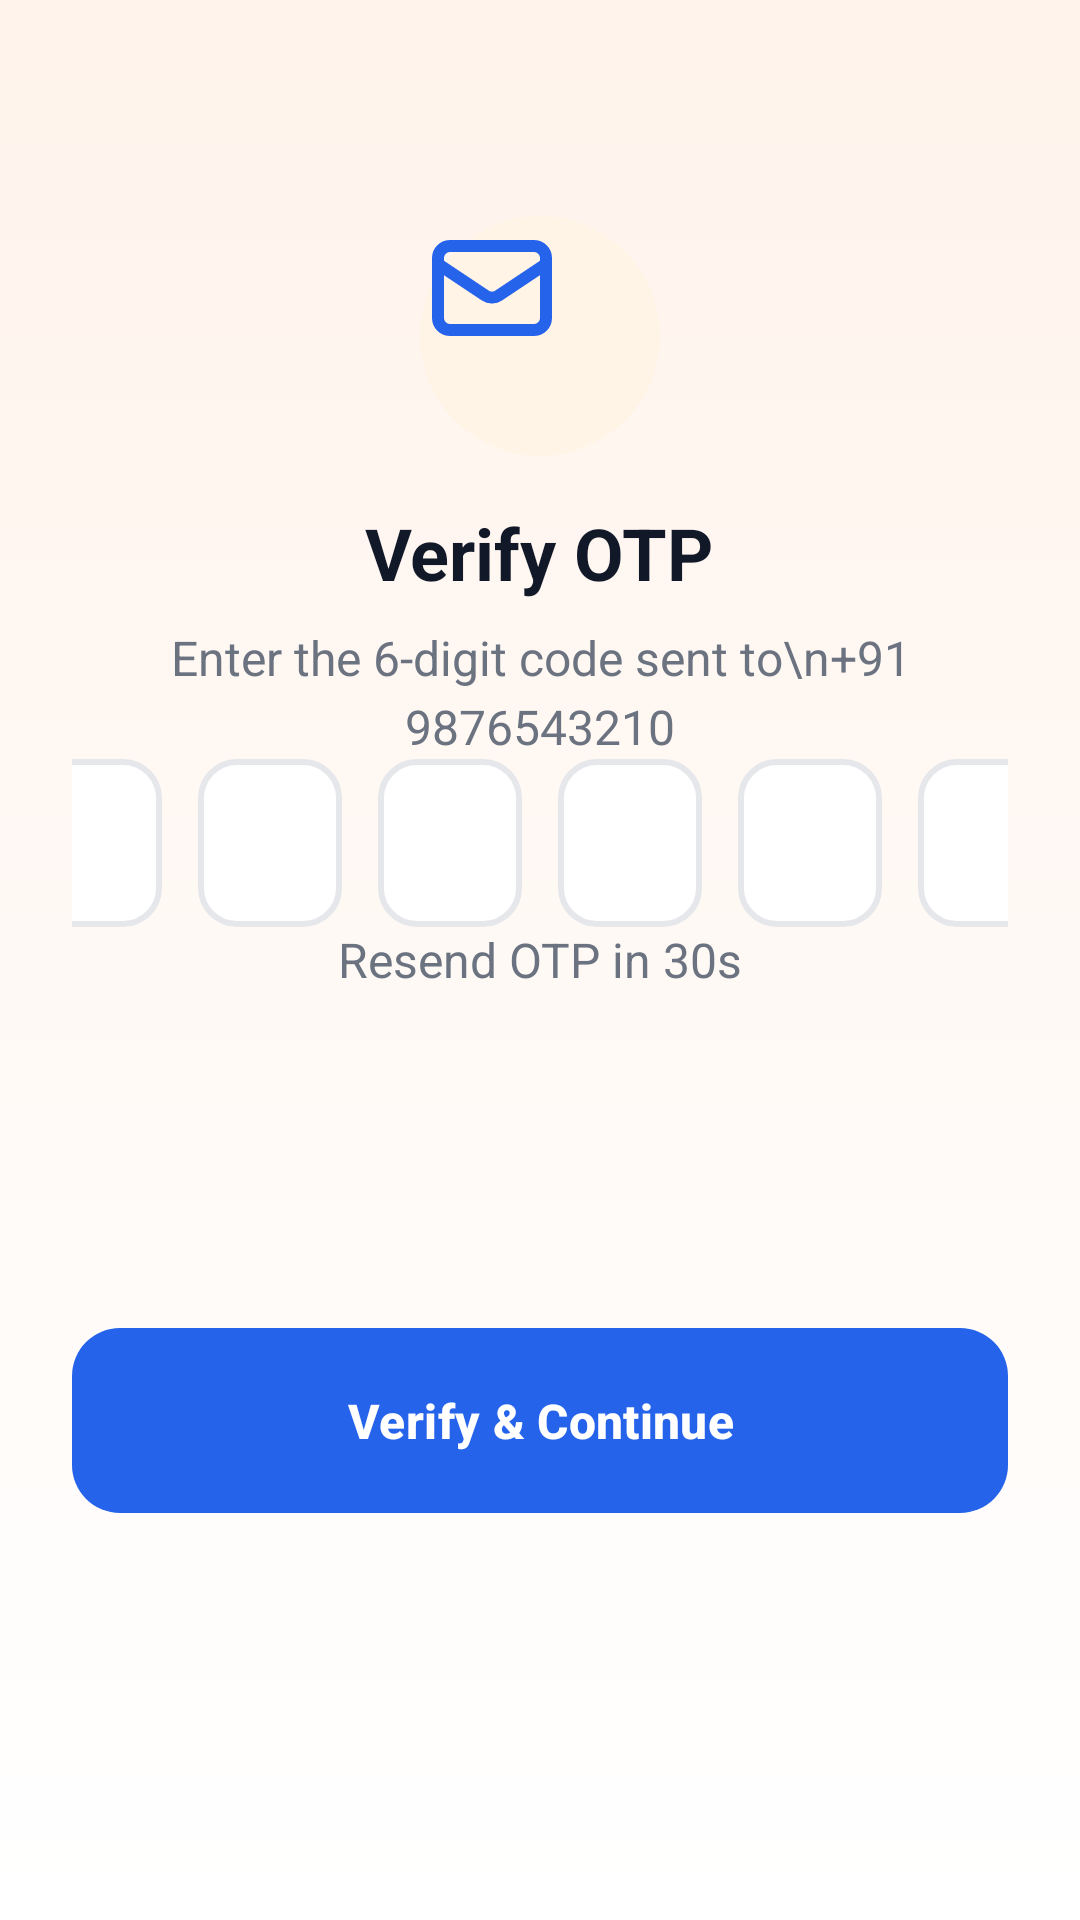

Screen size 1080 × 1920. Icon name, then its center in pixels as (x,y):
Email Icon: (492,288)
